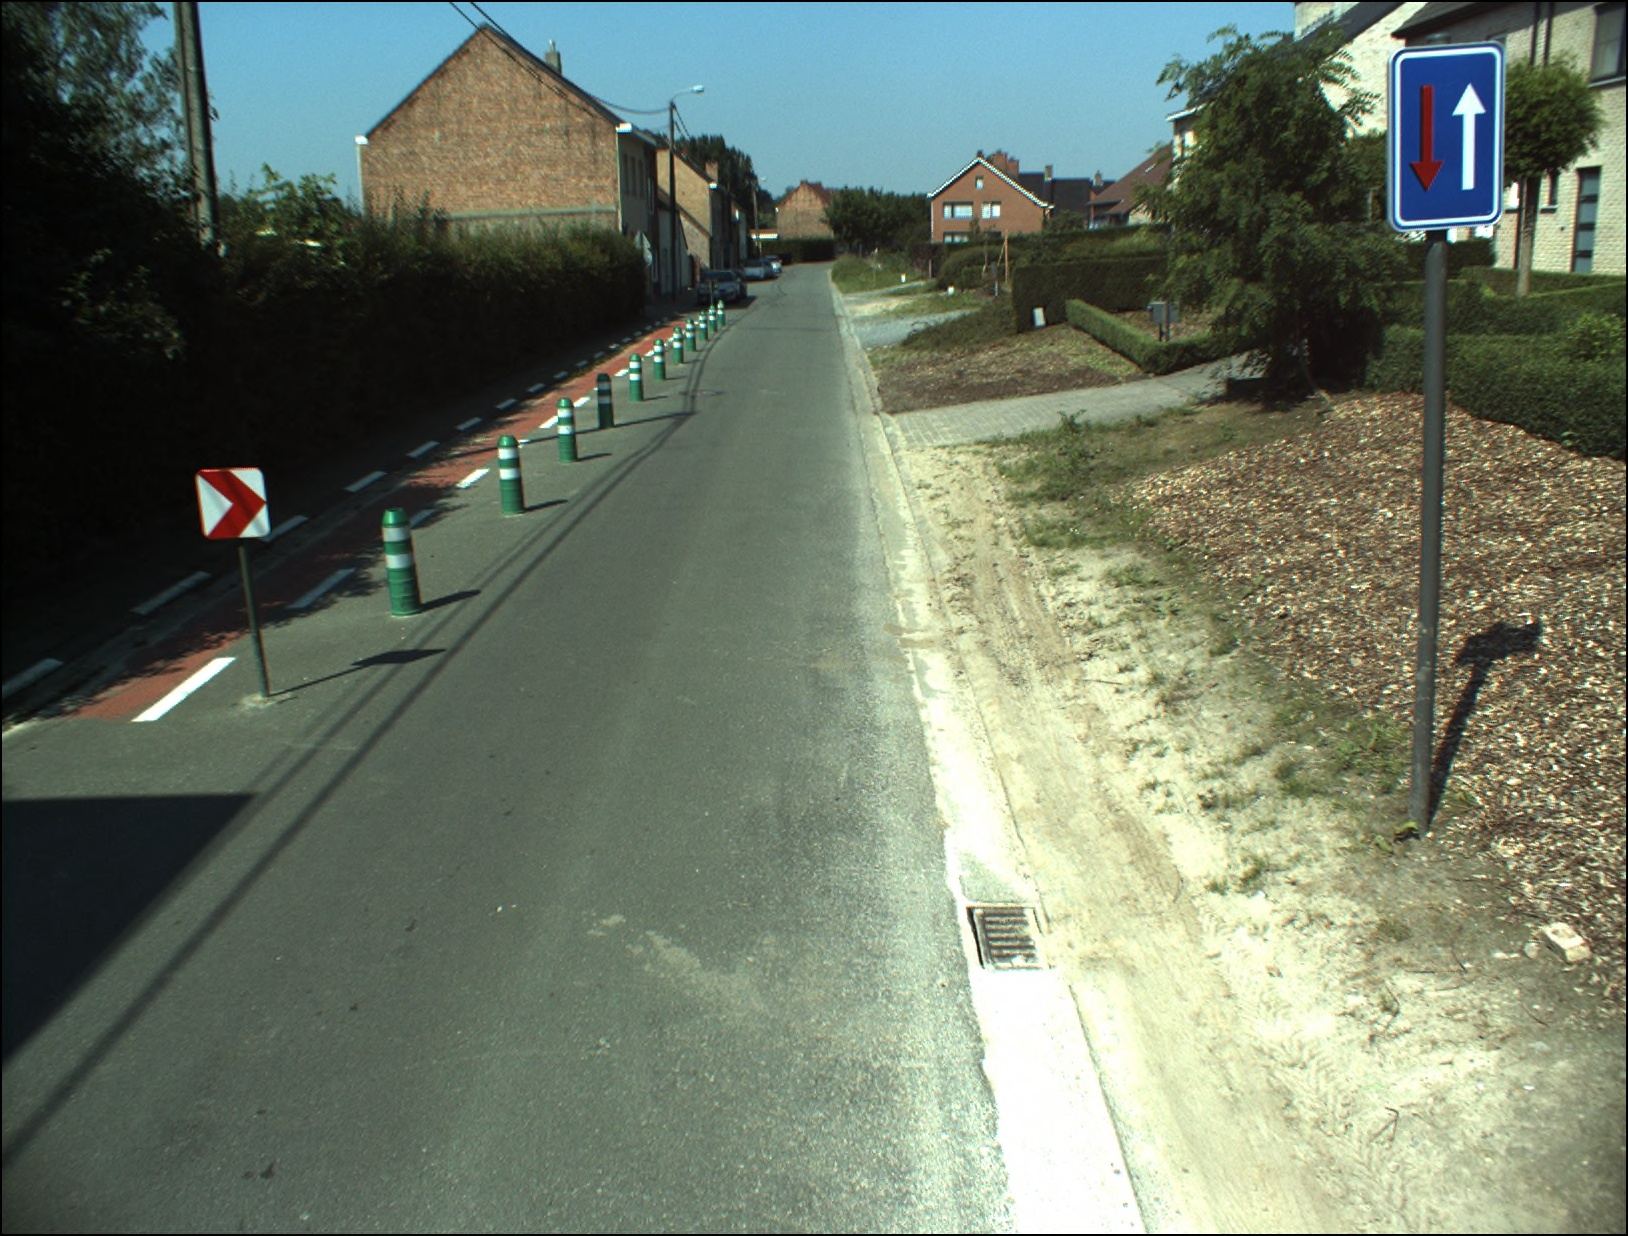roadnarrow1: (1396, 48, 1497, 225)
